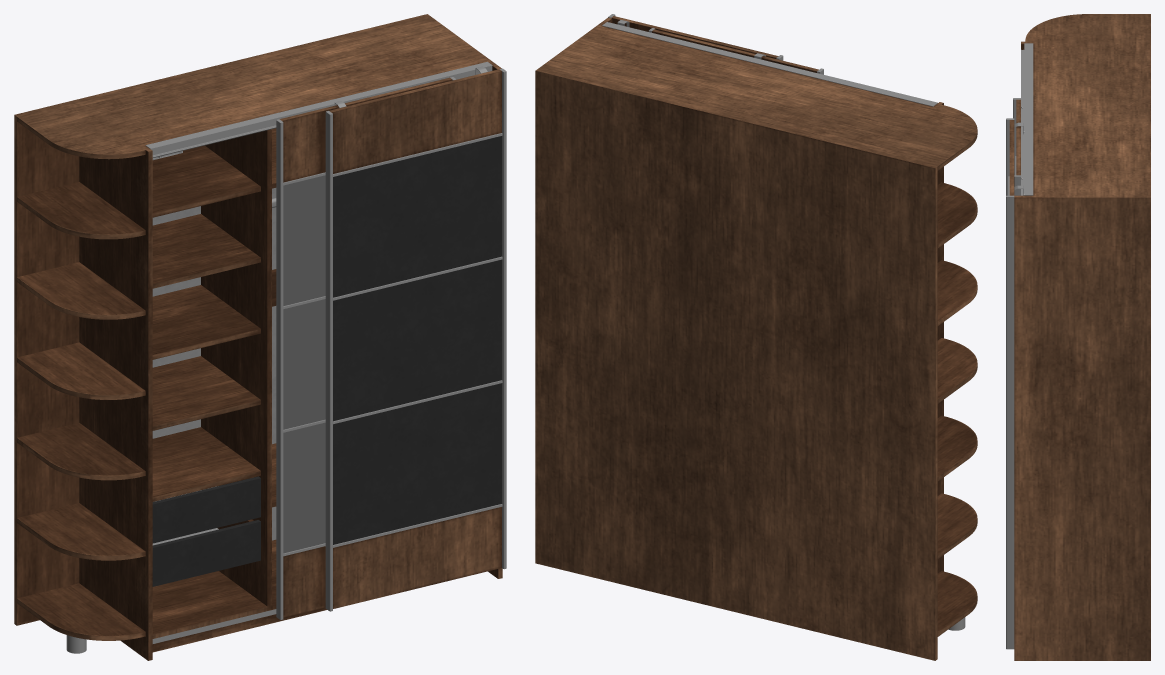
The picture shows the model from 3 angles, left to right: view 1: azimuth 30°, elevation 25°; view 2: azimuth 150°, elevation 25°; view 3: azimuth 270°, elevation 25°; orthographic projection. The views are drawn at different scales.
Visible parts, largest first — view 1: Wardrobe, WardrobeDoor2, WardrobeDoor1, WardrobeDrawer2, WardrobeDrawer1; view 2: Wardrobe, WardrobeDoor2, WardrobeDoor1; view 3: Wardrobe, WardrobeDoor2, WardrobeDoor1.
Boxes of the visible parts, box(x1,y1,x2,y2) form: Wardrobe: box(14, 14, 502, 660); WardrobeDoor2: box(325, 66, 506, 611); WardrobeDoor1: box(276, 77, 456, 619); WardrobeDrawer2: box(152, 519, 260, 586); WardrobeDrawer1: box(152, 476, 260, 543); Wardrobe: box(535, 17, 977, 660); WardrobeDoor2: box(608, 14, 783, 60); WardrobeDoor1: box(648, 28, 823, 74); Wardrobe: box(1014, 14, 1150, 660); WardrobeDoor2: box(1006, 118, 1024, 649); WardrobeDoor1: box(1013, 98, 1022, 195).
Size of the model in its own units: 1.89 by 2.23 by 0.6283.
5 materials, 5 textured.
